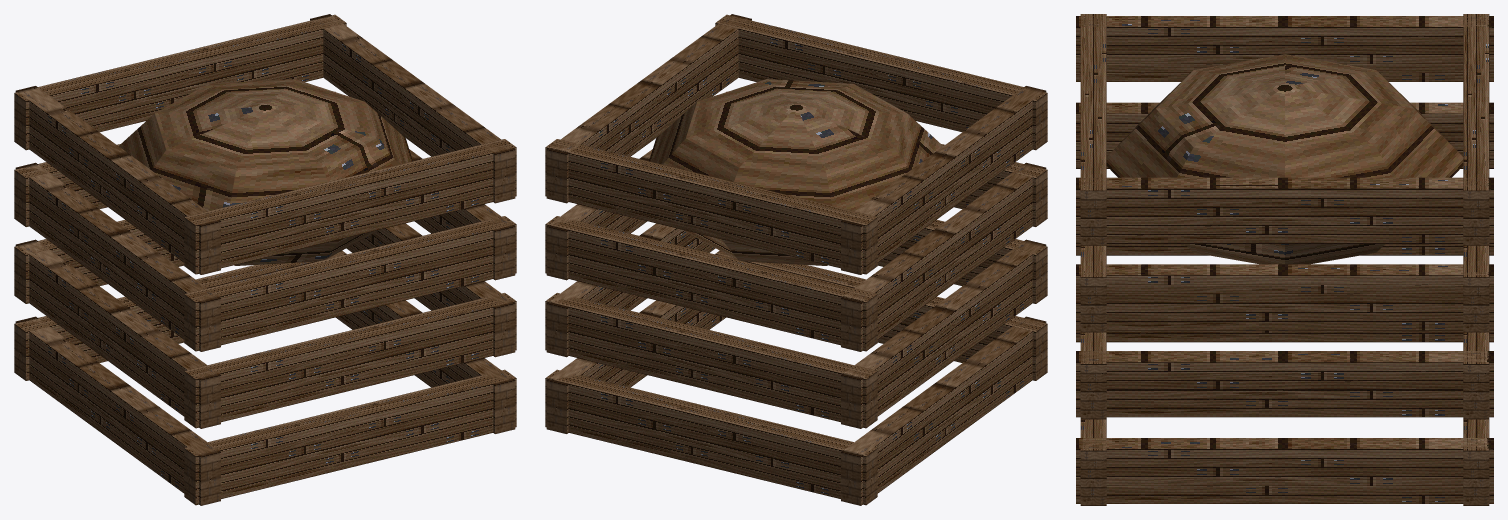
The model's file is composteira.glb.
3 views of the same model, side by side, from view 1: azimuth 30°, elevation 25°; view 2: azimuth 150°, elevation 25°; view 3: azimuth 270°, elevation 25° (orthographic). The views are drawn at different scales.
Parts seen in each view (by area): view 1: composteira; view 2: composteira; view 3: composteira.
Boxes of the visible parts, x1,y1,x2,y2 form: composteira: [14, 14, 516, 505]; composteira: [545, 14, 1047, 505]; composteira: [1076, 14, 1493, 505].
Bounding box in the file's own units: 0.96 × 0.839 × 0.96.
1 material, 1 textured.
